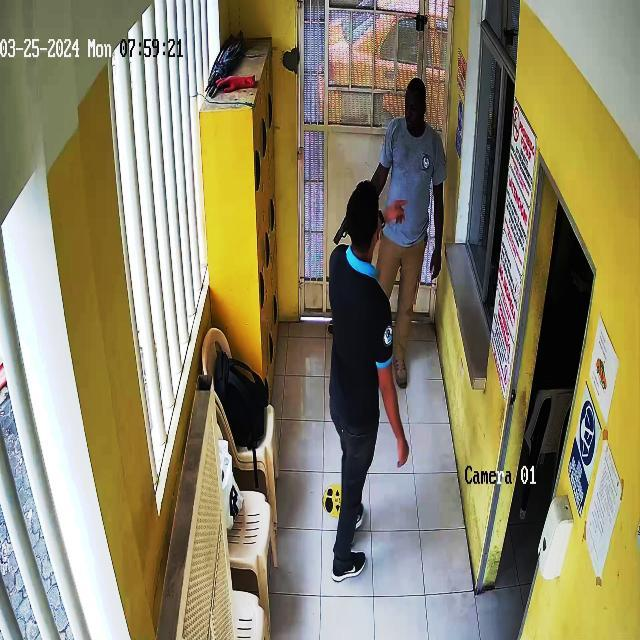Gun: (323, 206, 349, 246)
